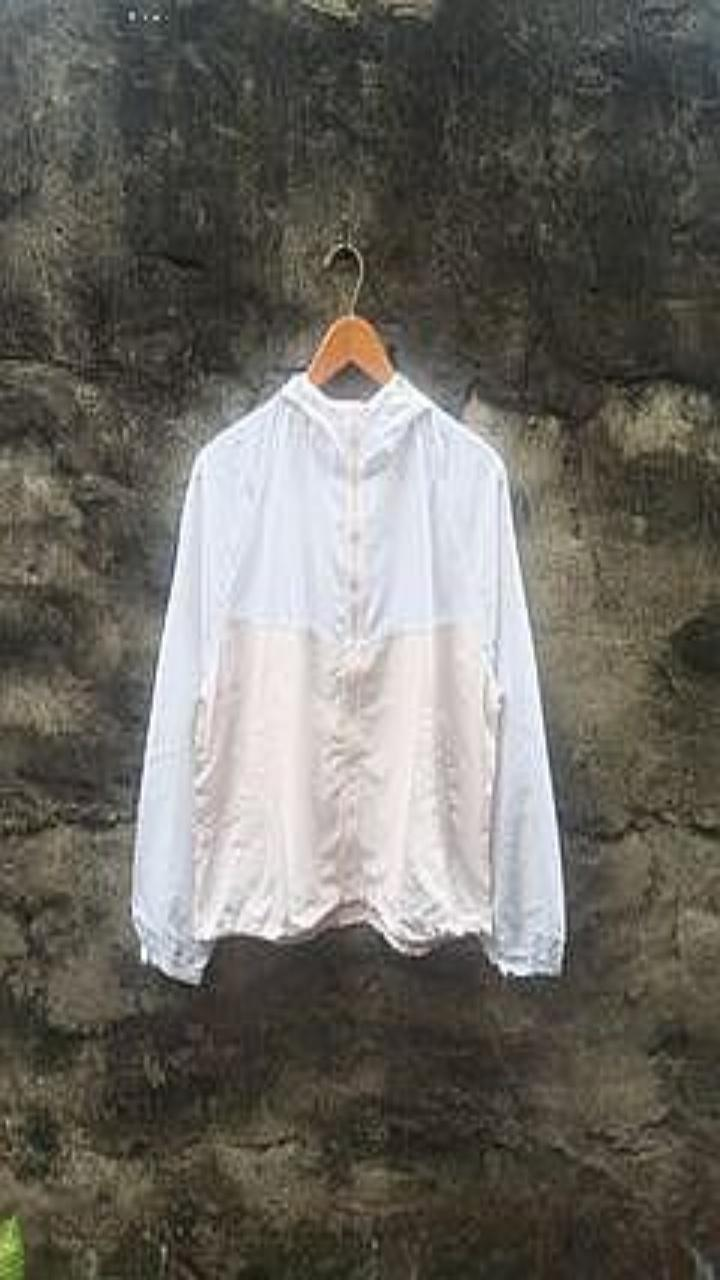Sports_Jacket: (131, 370, 565, 984)
